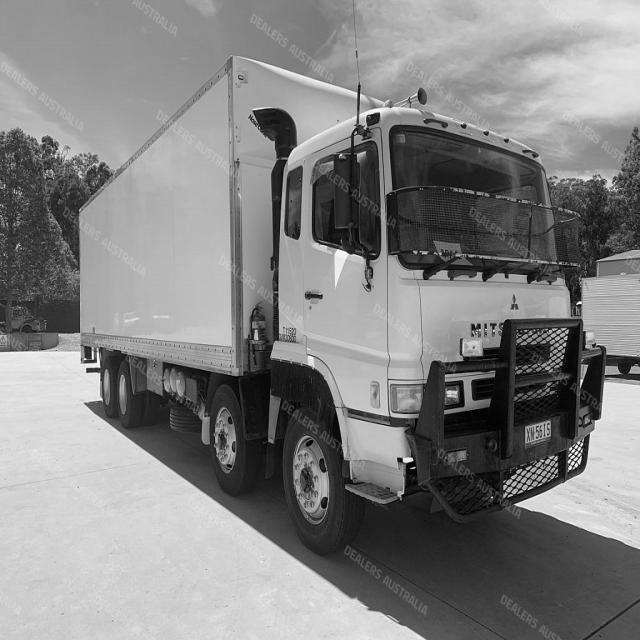truck: (243, 77, 620, 543)
